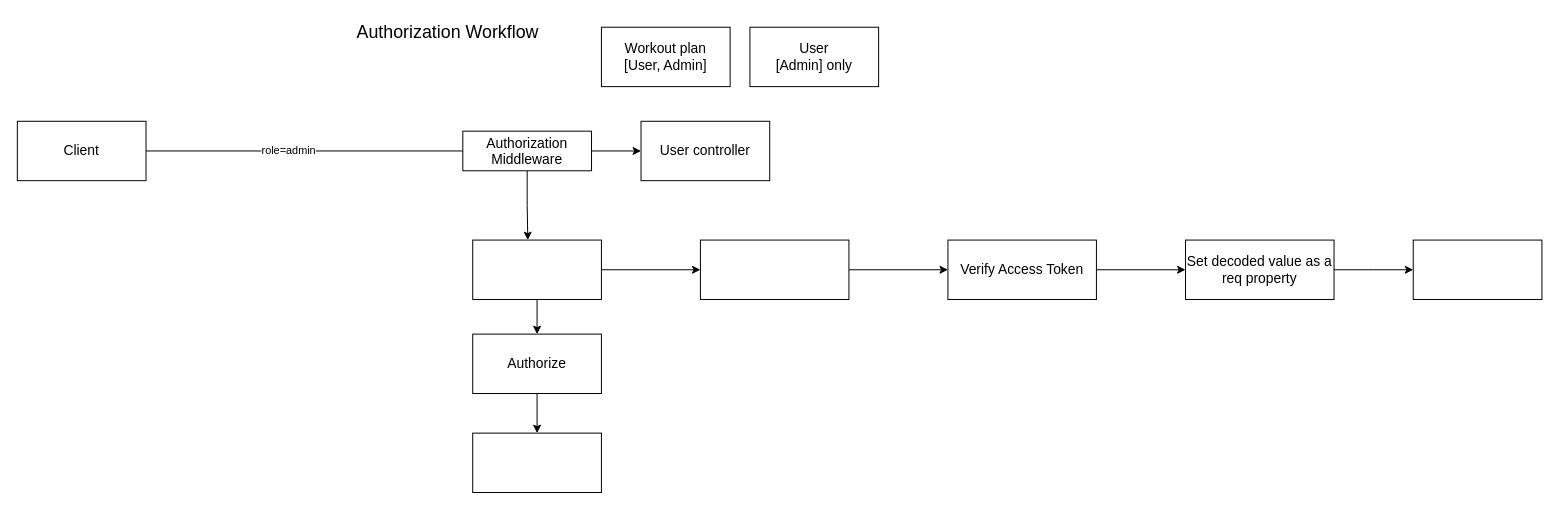
Image size: 1559x510. Some labels were removed from this diagram. Each missing label, with the centre of its shape:
"Authenticate" goes at (x=536, y=269).
"Check Authorization Token" goes at (x=774, y=269).
"Has Ownership" goes at (x=536, y=462).
"Next()" goes at (x=1477, y=269).
